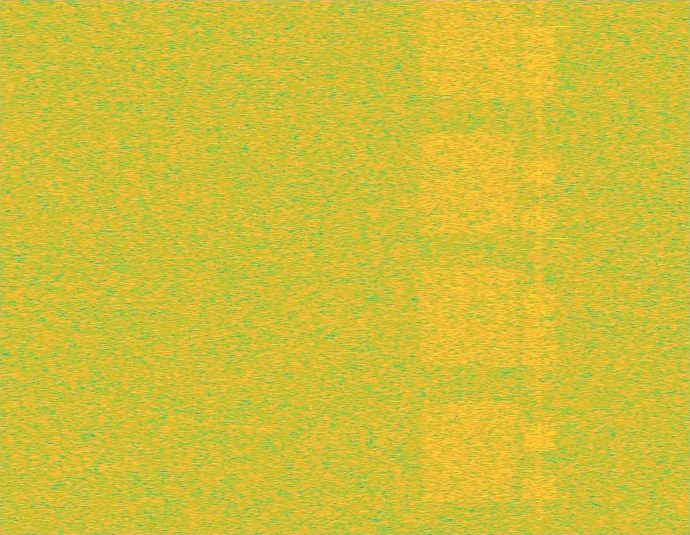5G: (418, 0, 522, 534)
DSSS: (535, 0, 543, 534)
LTE: (522, 0, 556, 534)
Radar: (553, 0, 567, 534)
